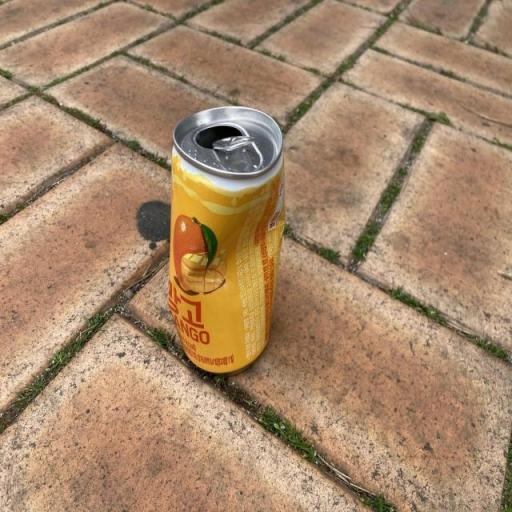metal: (154, 83, 308, 391)
